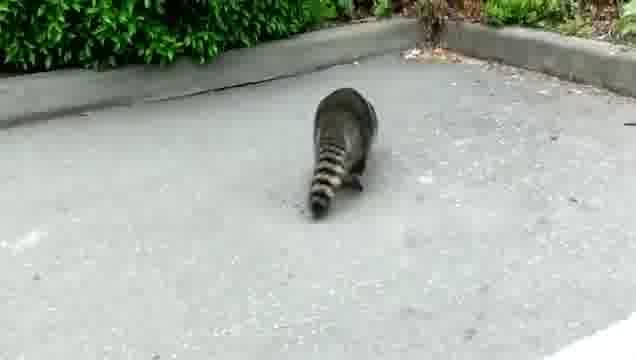raccoon: (306, 86, 379, 223)
